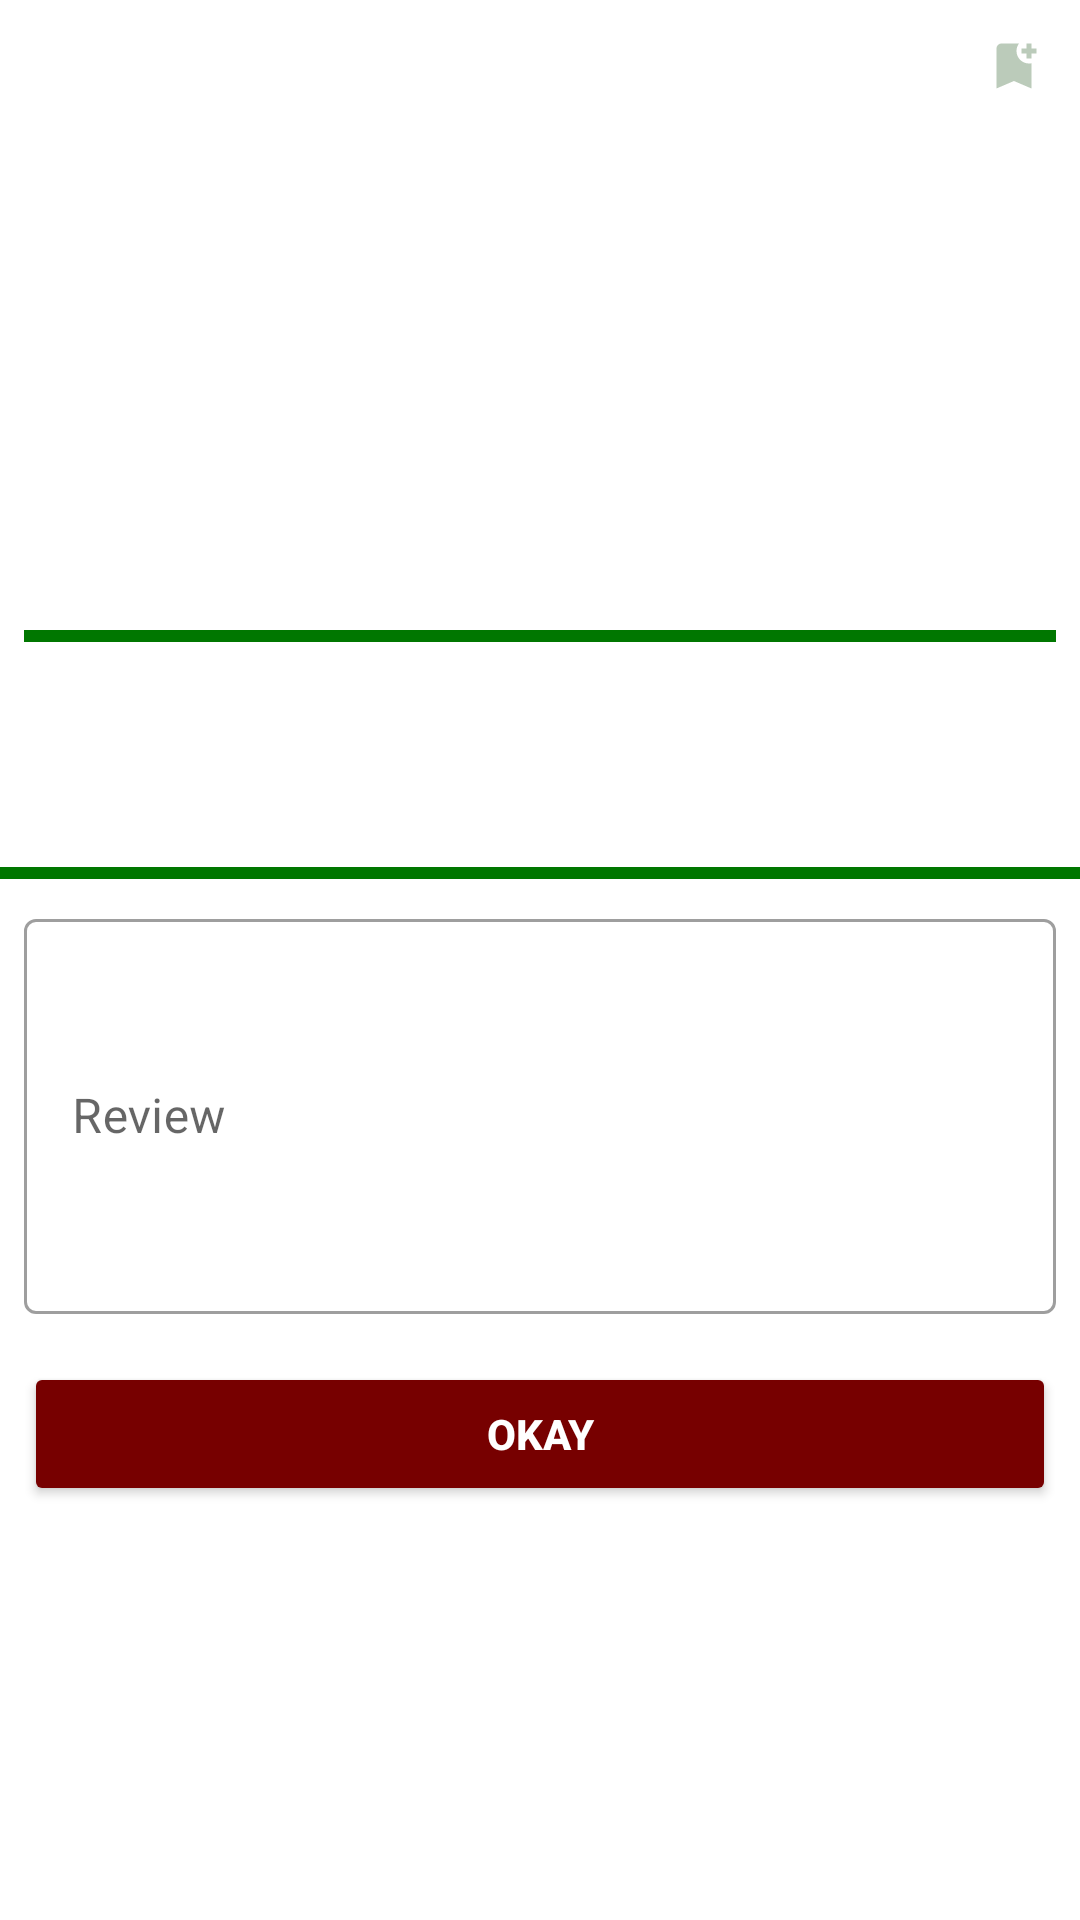

Icons on this 1080px x 1920px Android screen, each with the point to tap as [x,y]:
bookmark add: [1016,65]
